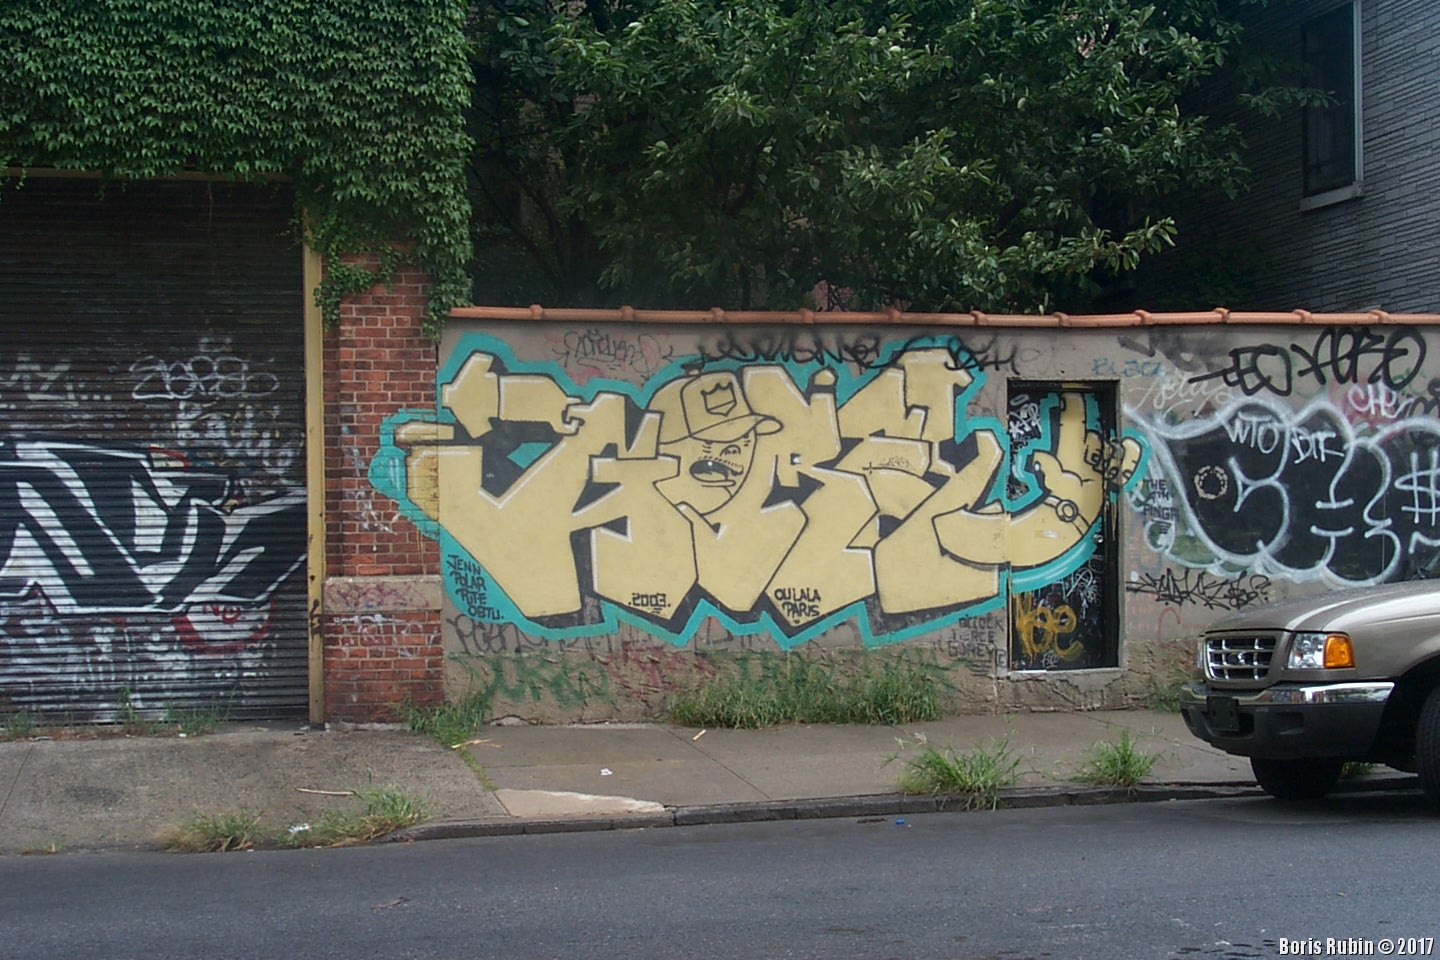graphite: (382, 359, 1132, 636), (1, 437, 294, 637), (1169, 411, 1440, 586), (135, 341, 307, 468), (1220, 337, 1440, 411), (1, 355, 117, 427), (1144, 564, 1275, 622)
